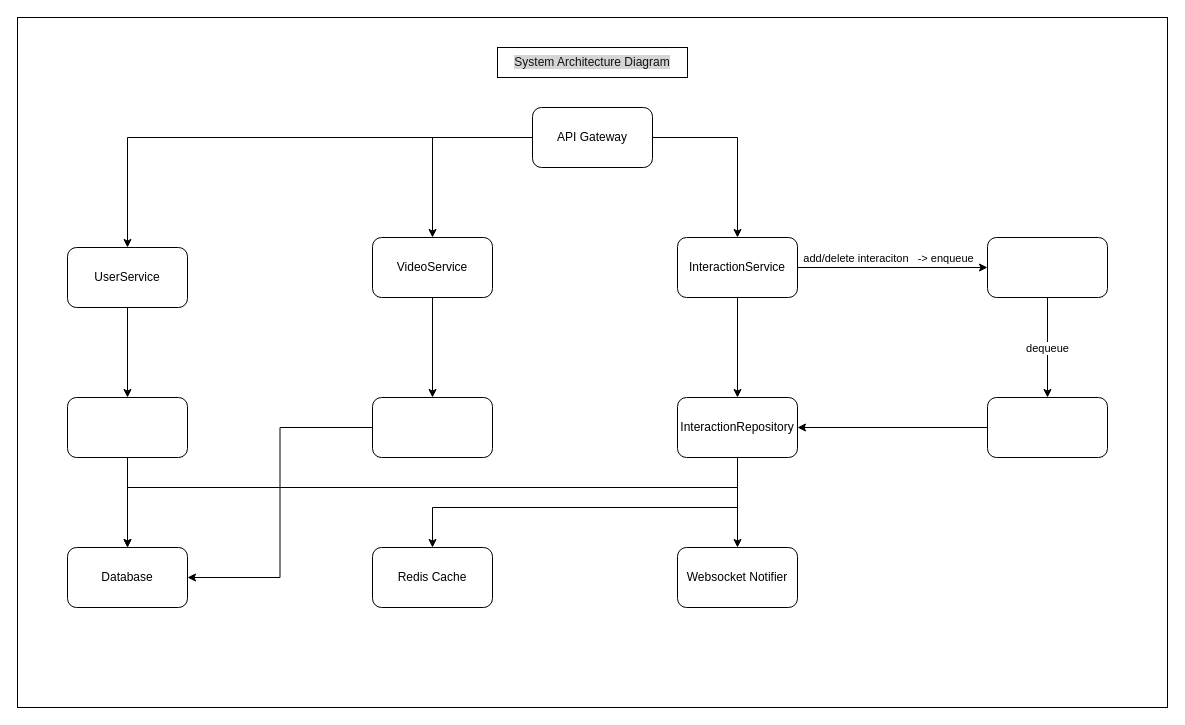
Image size: 1185x725. Some labels were removed from this diagram. The shapes that lost their labels are listed below. From the top down, each one's centre as x and y in pixels, then its label:
At pixel 1047 267: "QueueConsumer".
At pixel 127 427: "UserRepository".
At pixel 432 427: "VideoRepository".
At pixel 1047 427: "QueueService".
